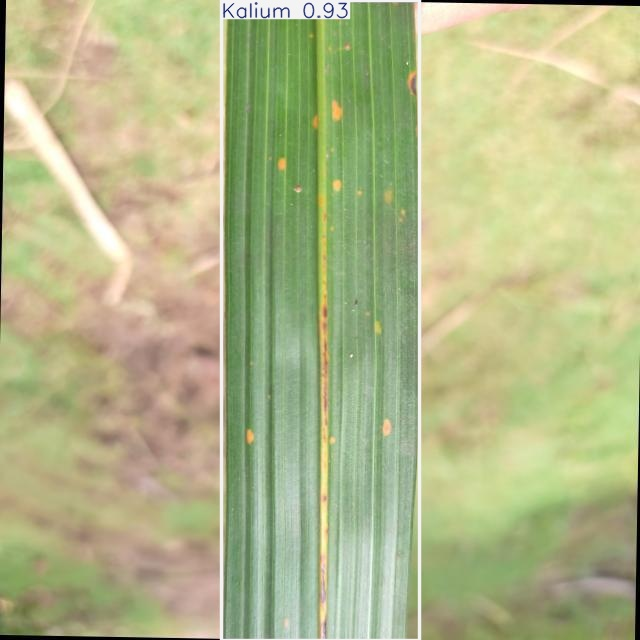Kalium: (221, 0, 419, 640)
